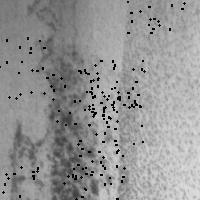pitted_surface: (9, 1, 111, 200), (117, 1, 200, 200), (63, 140, 123, 198), (86, 91, 142, 151), (84, 60, 143, 116), (0, 37, 53, 97), (43, 70, 96, 124), (127, 0, 183, 32), (0, 166, 37, 200)
